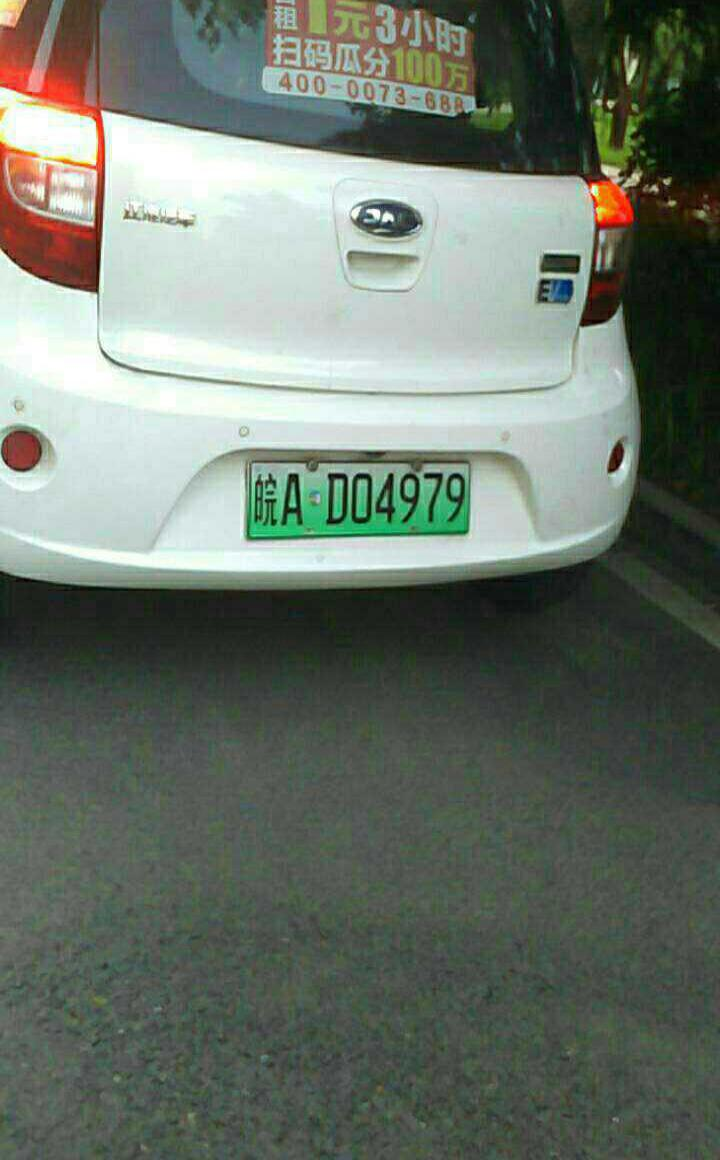car_green: (240, 456, 478, 541)
